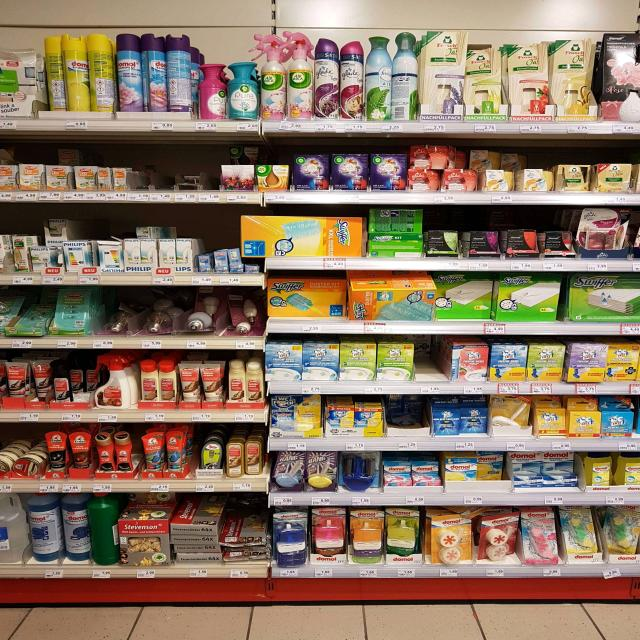unorganised: (365, 32, 418, 120), (140, 34, 192, 111), (171, 498, 224, 562), (476, 508, 521, 562), (88, 491, 119, 566), (87, 31, 115, 114), (428, 513, 472, 565), (61, 492, 90, 561), (272, 511, 308, 566), (43, 35, 66, 115), (198, 62, 226, 120), (384, 395, 427, 428), (477, 451, 509, 480), (141, 432, 164, 469), (199, 436, 225, 468), (226, 247, 241, 272)
